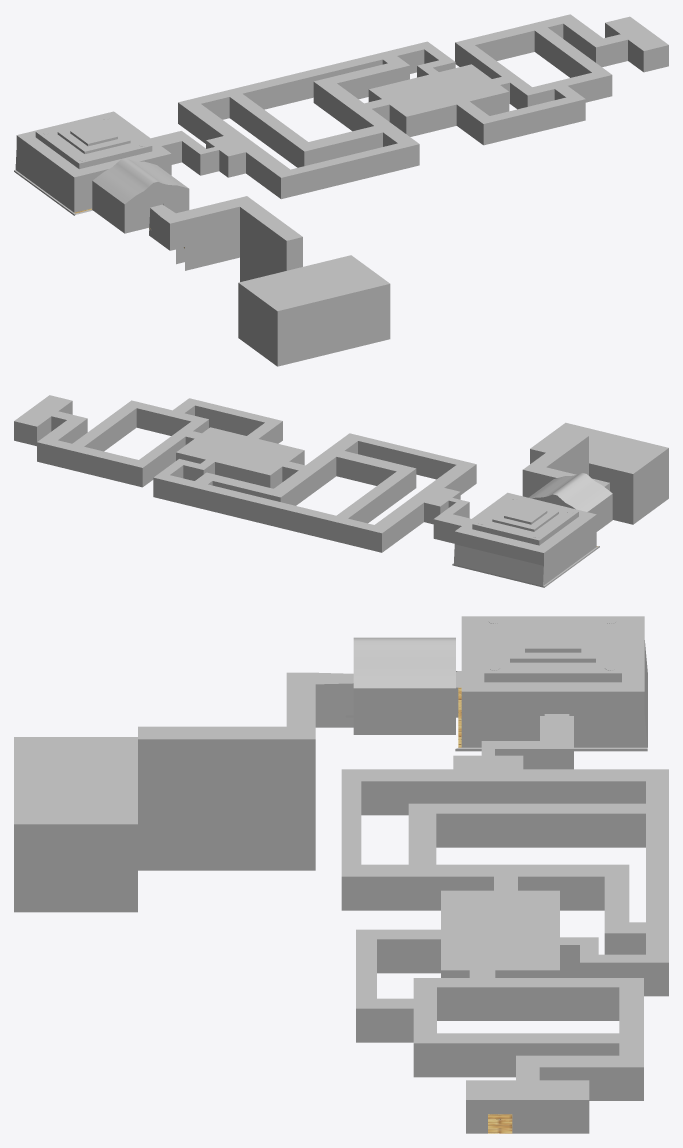
The model's file is Map_Test_Replace.fbx.
The picture shows the model from 3 angles, top to bottom: view 1: azimuth 30°, elevation 25°; view 2: azimuth 150°, elevation 25°; view 3: azimuth 270°, elevation 25°; orthographic projection. The views are drawn at different scales.
Visible parts, largest first — view 1: RockLure_Puzzle, polySurface9; view 2: RockLure_Puzzle, polySurface9; view 3: RockLure_Puzzle, polySurface9.
Boxes of the visible parts, bbox=[...] form: RockLure_Puzzle: bbox=[151, 14, 668, 199]; polySurface9: bbox=[14, 111, 390, 366]; RockLure_Puzzle: bbox=[14, 395, 476, 552]; polySurface9: bbox=[452, 422, 668, 587]; RockLure_Puzzle: bbox=[341, 716, 668, 1133]; polySurface9: bbox=[14, 616, 647, 912].
Bounding box in the file's own units: 423 × 75.53 × 253.
